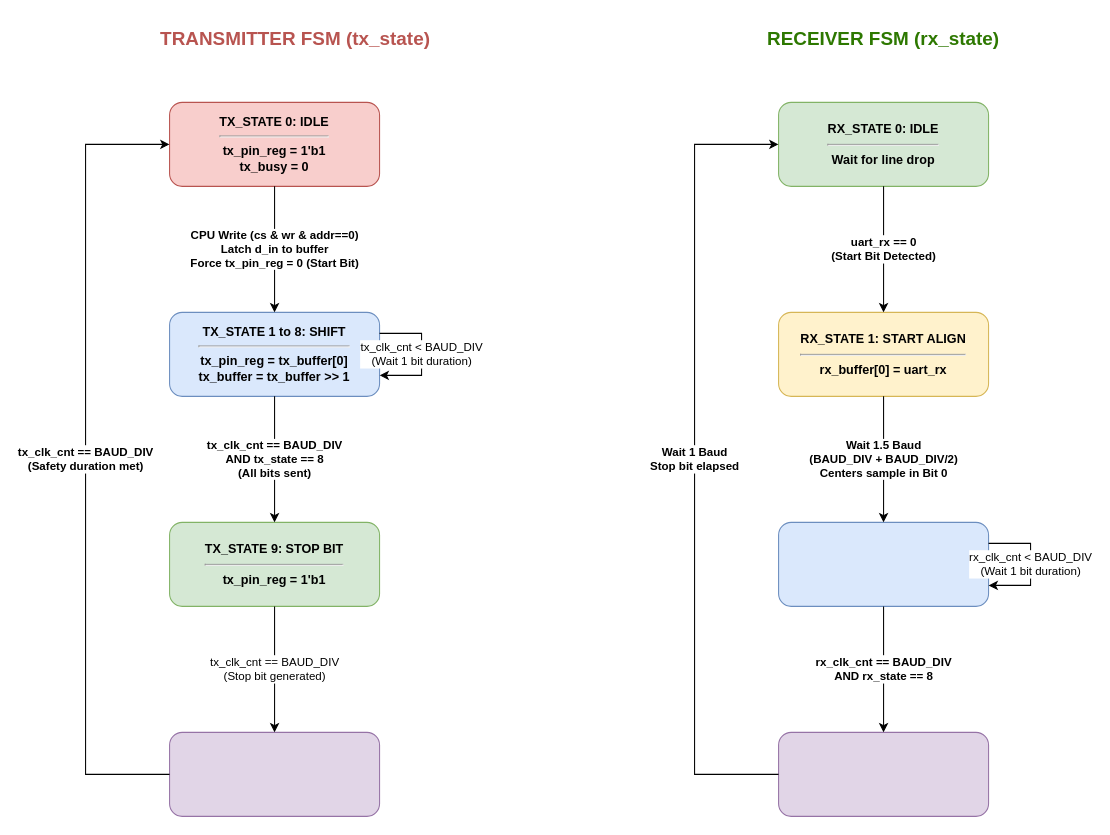
Some shapes in this 1110 by 835 pixel diagram are drawn without their labels. Each missing label, with the box of its shape:
RX_STATE 2 to 8: SAMPLE rx_buffer[n] = uart_rx: (778, 521, 989, 606)
RX_STATE 9: STOP ALIGN rx_ready = 1: (778, 731, 989, 816)
TX_STATE 10: WAIT Hold line high: (169, 731, 380, 816)
